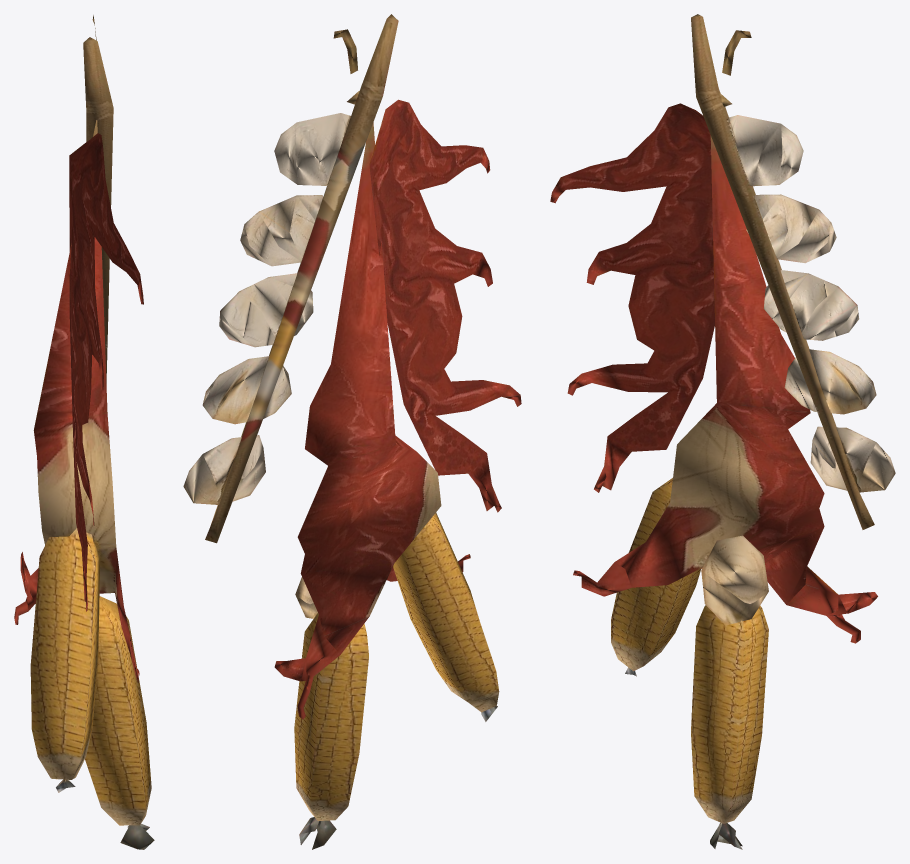
Rendered from chili_M.FBX.
3 renders of one model, left to right at view 1: azimuth 30°, elevation 25°; view 2: azimuth 150°, elevation 25°; view 3: azimuth 270°, elevation 25°, orthographic. The views are drawn at different scales.
Parts seen in each view (by area): view 1: tripo_node_b51b8137; view 2: tripo_node_b51b8137; view 3: tripo_node_b51b8137.
Part boxes in pixels (left/top/right/bottom): tripo_node_b51b8137: left=14, top=15, right=154, bottom=849; tripo_node_b51b8137: left=183, top=14, right=521, bottom=849; tripo_node_b51b8137: left=550, top=14, right=895, bottom=849.
Bounding box in the file's own units: 0.2363 × 0.998 × 0.3887.
